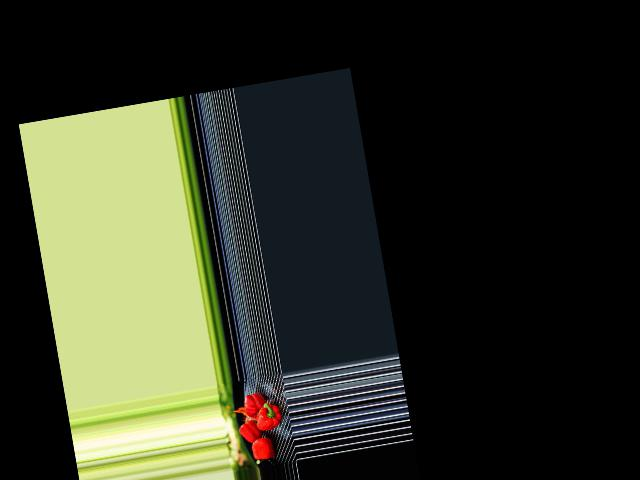bell_pepper: (241, 391, 266, 419)
